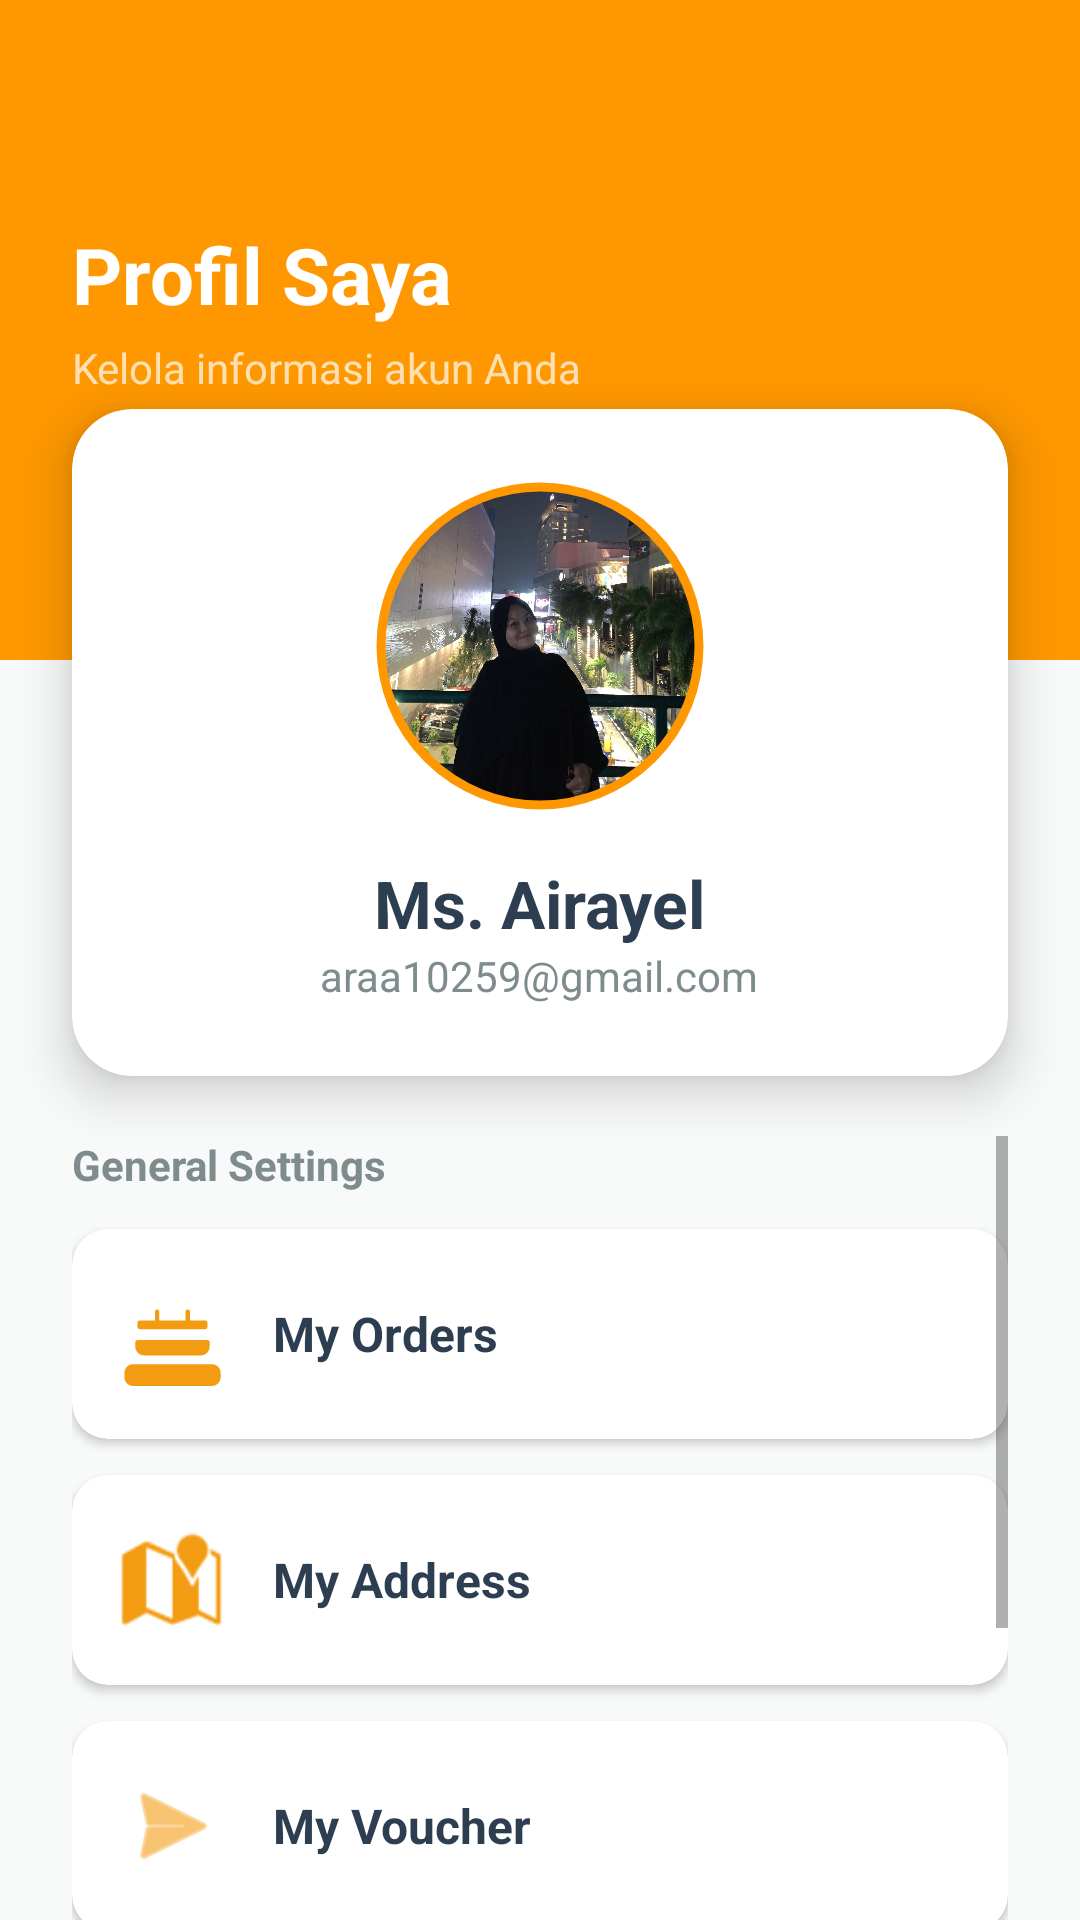

Icon click points for this 1080px x 1920px phone screenshot, format [x,y]:
food: [172,1347]
map: [171,1579]
mukaku: [540,646]
send: [173,1826]
